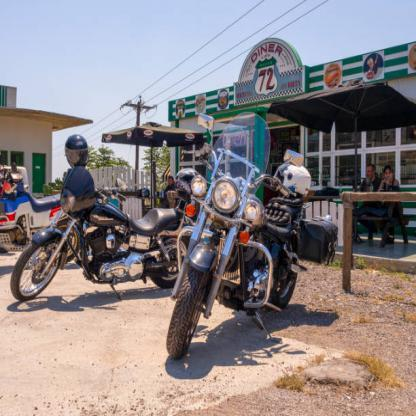Motorcycle: (164, 137, 317, 371), (11, 141, 195, 307)
